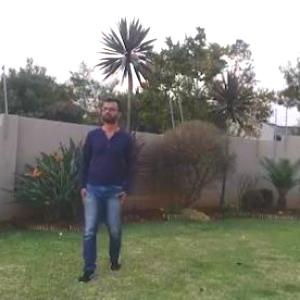follow: (71, 87, 138, 290)
